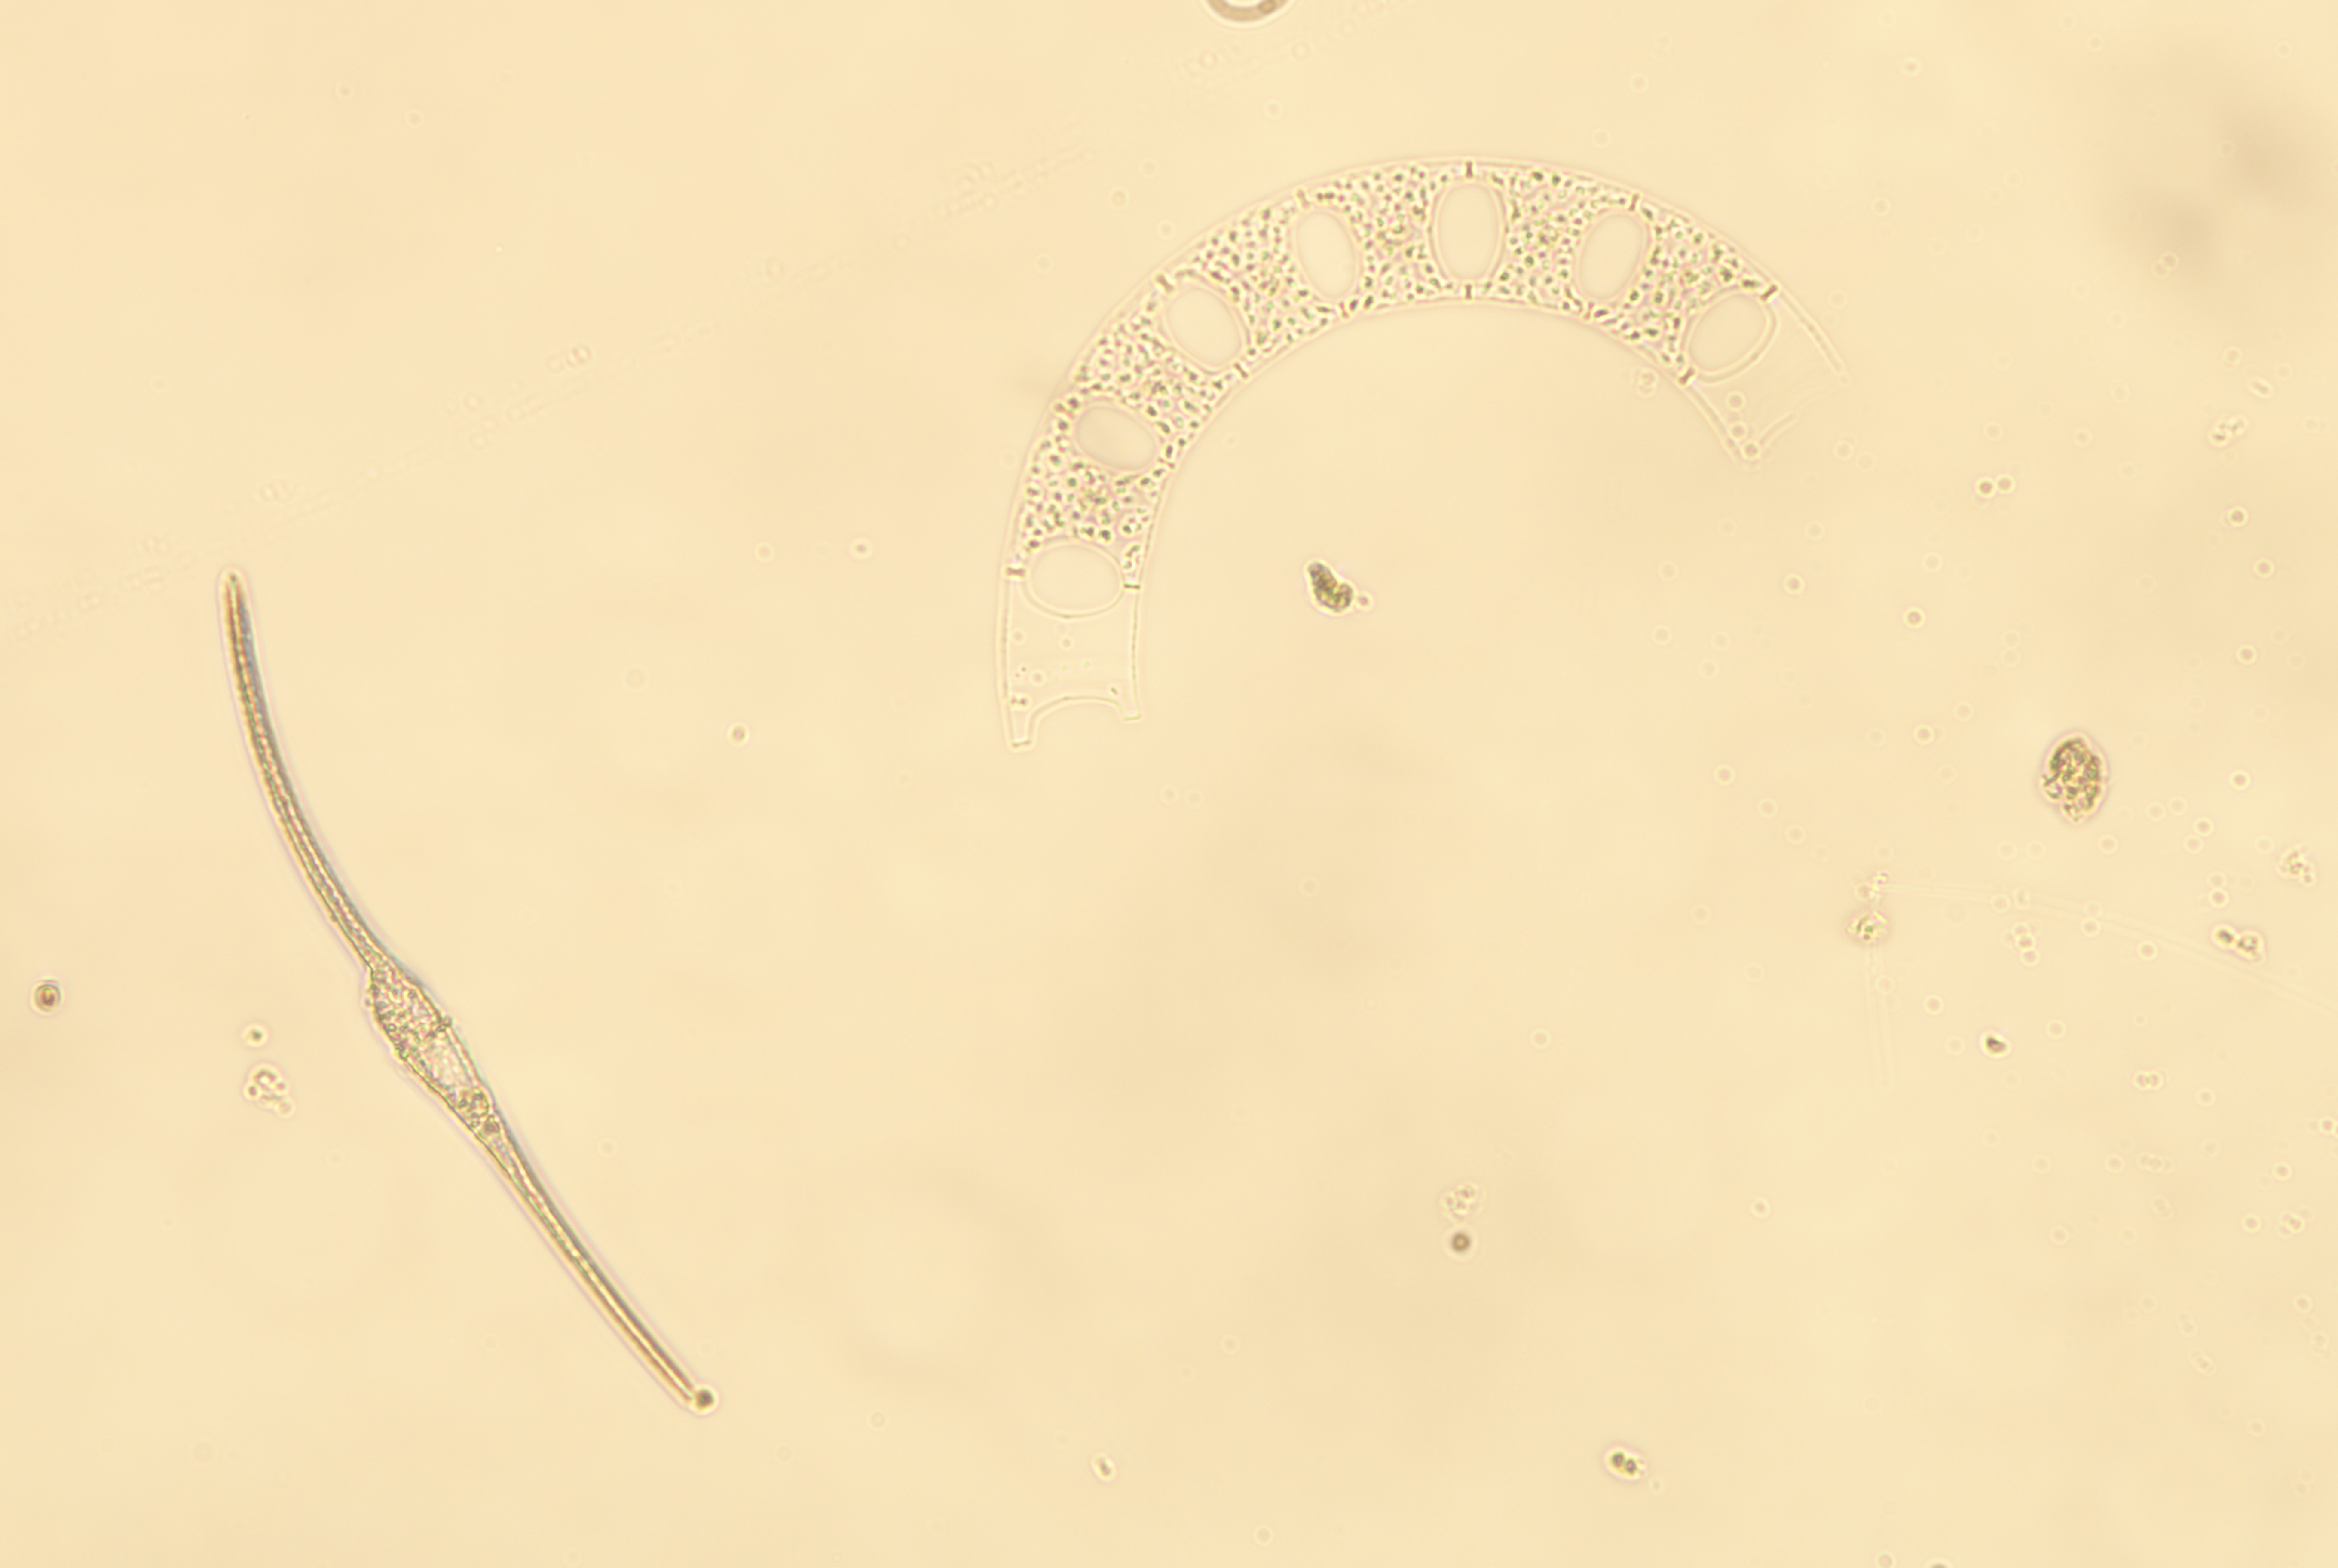ceratium fusus: (217, 562, 740, 1419)
eucampia: (949, 138, 1824, 719)
